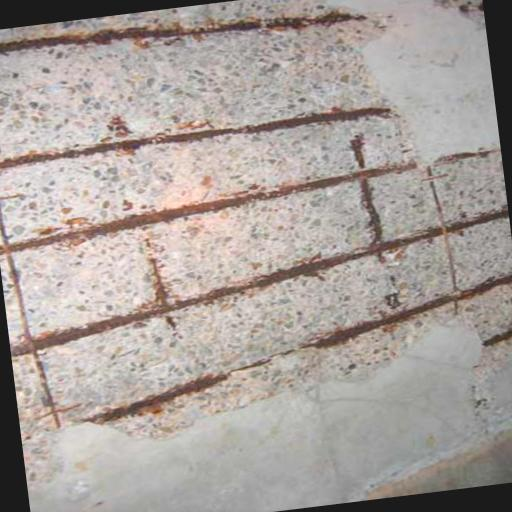spalling: (0, 0, 512, 485), (431, 0, 486, 31)
